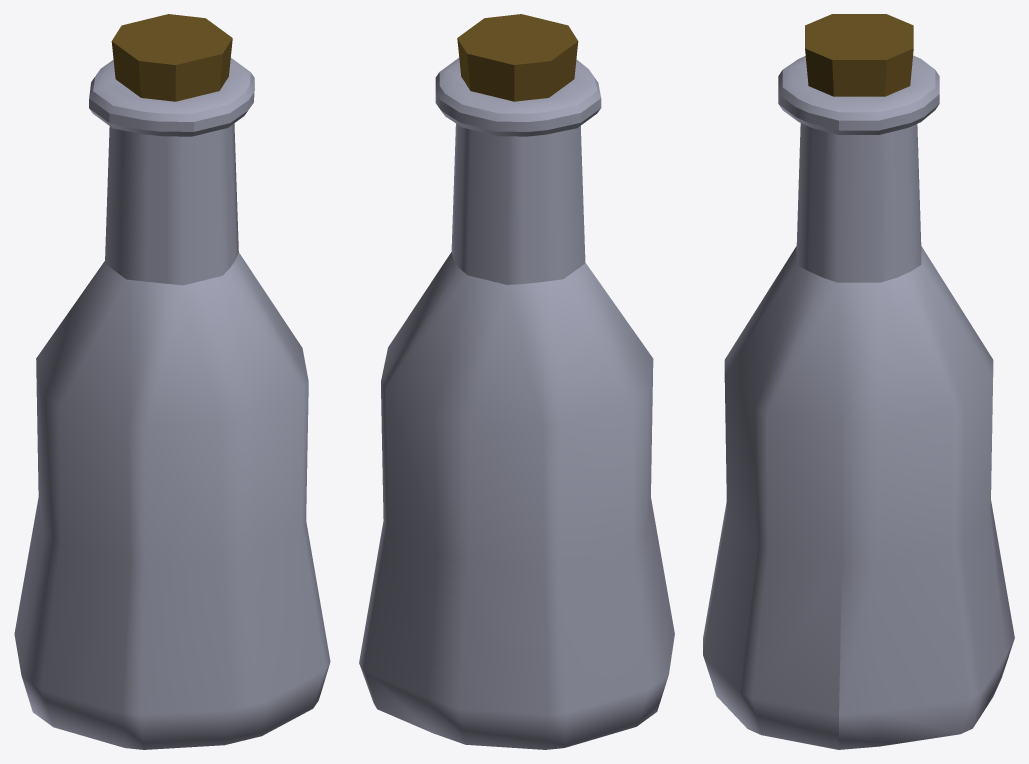
File: CorquedBottle.fbx
3 renders of one model, left to right at view 1: azimuth 30°, elevation 25°; view 2: azimuth 150°, elevation 25°; view 3: azimuth 270°, elevation 25°, orthographic.
Visible parts, largest first — view 1: polySurface144; view 2: polySurface144; view 3: polySurface144.
Part boxes in pixels (<box>): polySurface144: <box>14,14,330,749</box>; polySurface144: <box>359,14,674,749</box>; polySurface144: <box>703,14,1014,749</box>.
Bounding box in the file's own units: 0.283 × 0.6414 × 0.2713.
